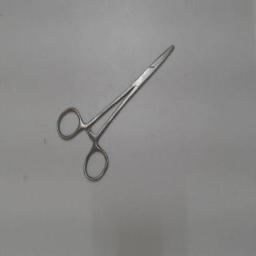Mayo Needle Holder: (53, 34, 187, 188)
